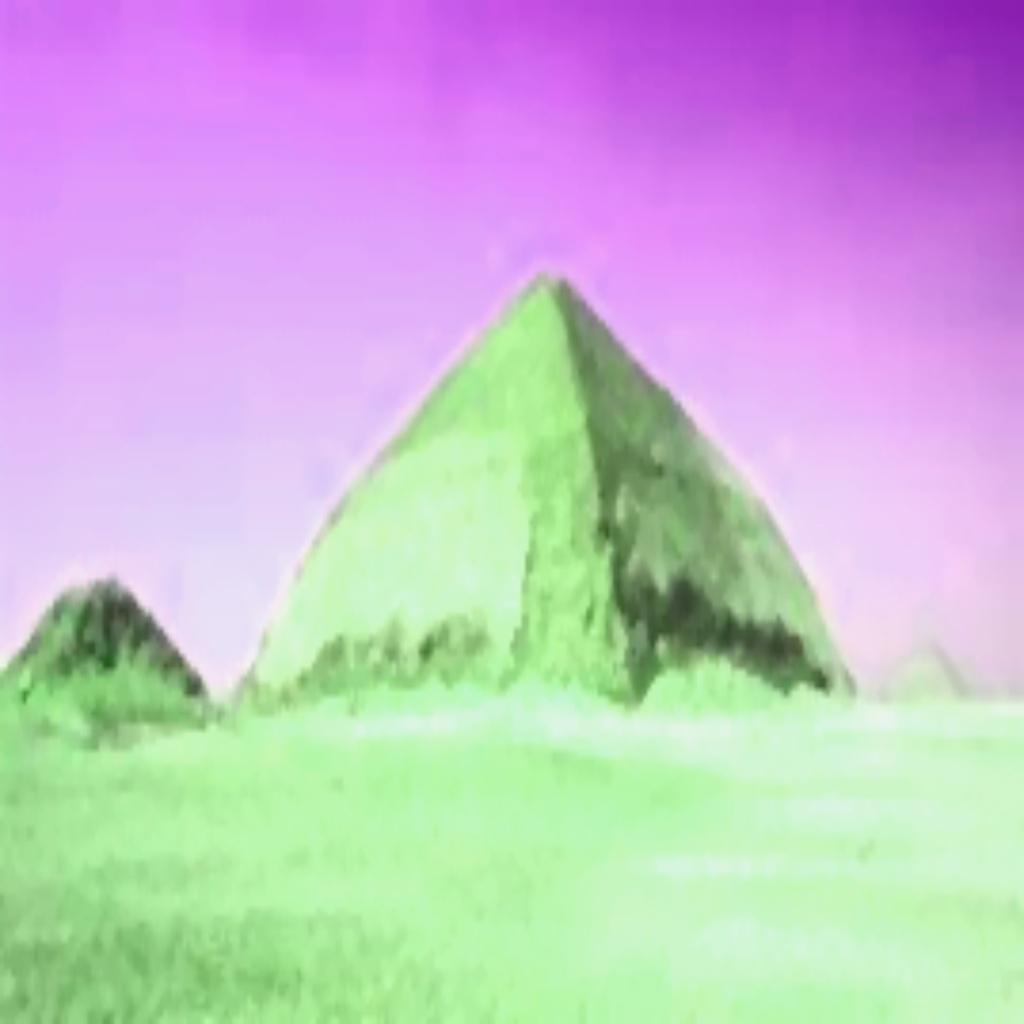Bent Pyramid of King Sneferu: (236, 252, 856, 716)
